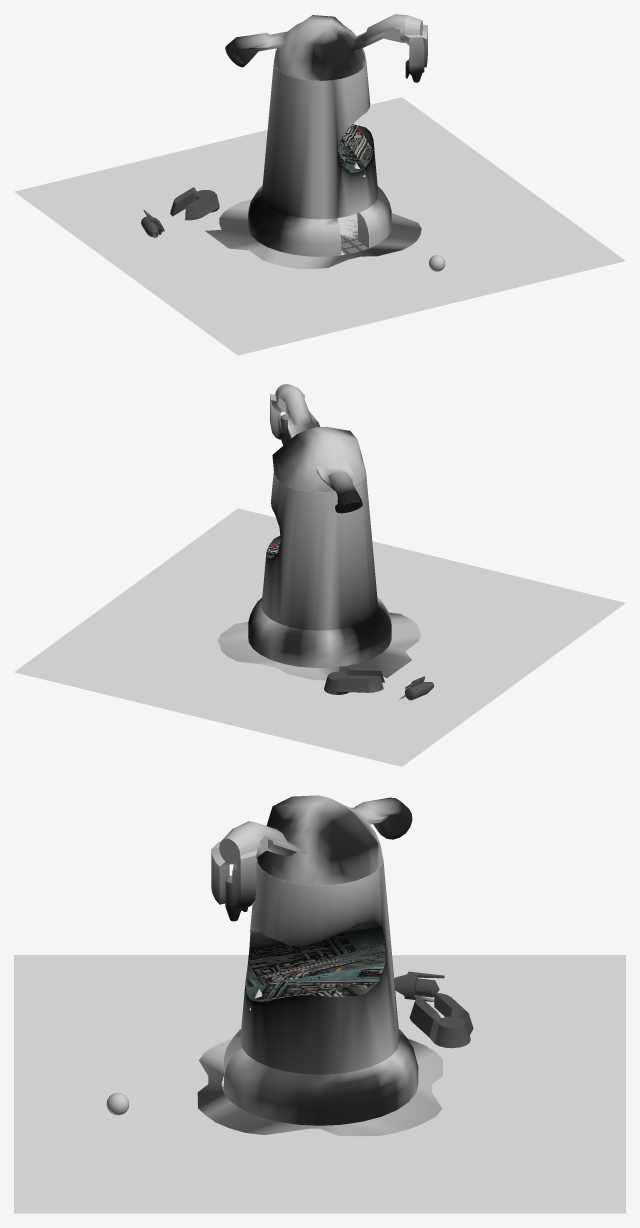
The model's file is ibgtow01.FBX.
3 renders of one model, top to bottom at view 1: azimuth 30°, elevation 25°; view 2: azimuth 150°, elevation 25°; view 3: azimuth 270°, elevation 25°, orthographic. The views are drawn at different scales.
Parts seen in each view (by area): view 1: terrain__h, ibgtow01, turret, terrain, walls; view 2: terrain__h, ibgtow01, turret, terrain; view 3: terrain__h, ibgtow01, turret, walls, terrain.
Boxes of the visible parts, left/top/right/bottom form: terrain__h: left=14, top=97, right=625, bottom=355; ibgtow01: left=248, top=58, right=391, bottom=256; turret: left=141, top=14, right=445, bottom=271; terrain: left=205, top=199, right=421, bottom=269; walls: left=338, top=124, right=373, bottom=172; terrain__h: left=14, top=508, right=625, bottom=766; ibgtow01: left=248, top=469, right=391, bottom=667; turret: left=270, top=384, right=434, bottom=700; terrain: left=217, top=612, right=420, bottom=680; terrain__h: left=14, top=955, right=625, bottom=1213; ibgtow01: left=224, top=855, right=418, bottom=1125; turret: left=106, top=795, right=473, bottom=1115; walls: left=245, top=921, right=385, bottom=1001; terrain: left=197, top=1038, right=443, bottom=1136.
Size of what is drawn, in the model's own units: 32 by 32 by 17.13.
